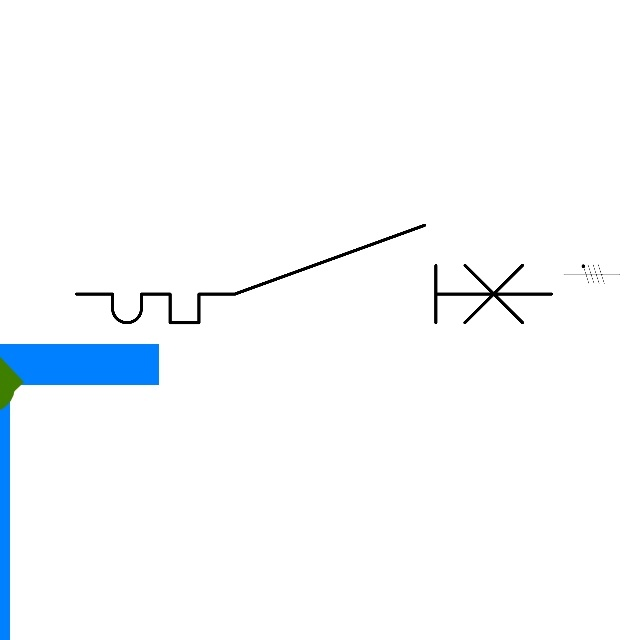interruptor_termomagnetico: (64, 213, 563, 335)
